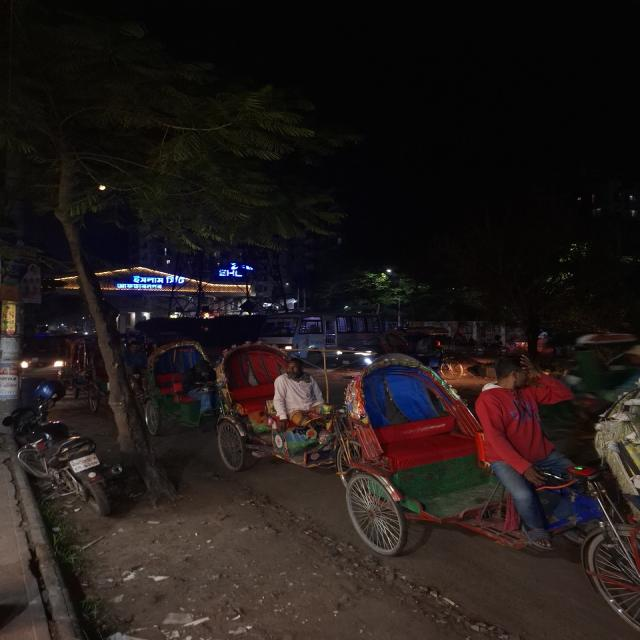motorcycle: (5, 408, 116, 522)
rickshaw: (326, 352, 626, 574), (209, 336, 338, 478), (144, 334, 263, 461)
